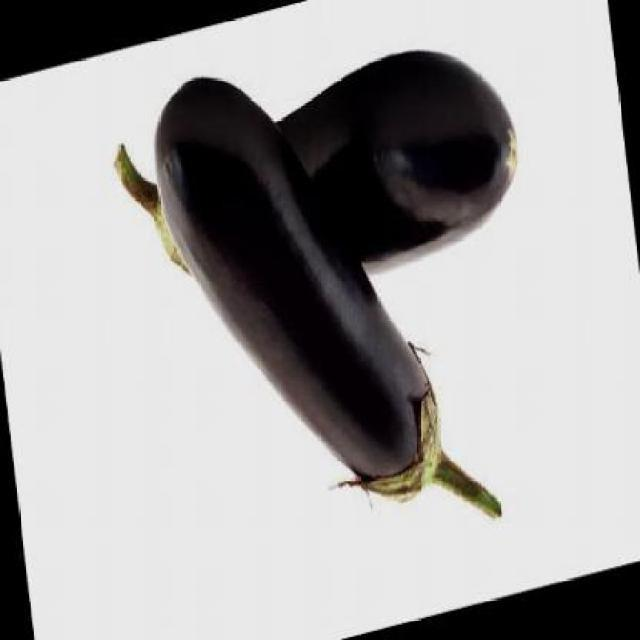eggplant: (143, 11, 500, 598), (109, 22, 529, 356)
